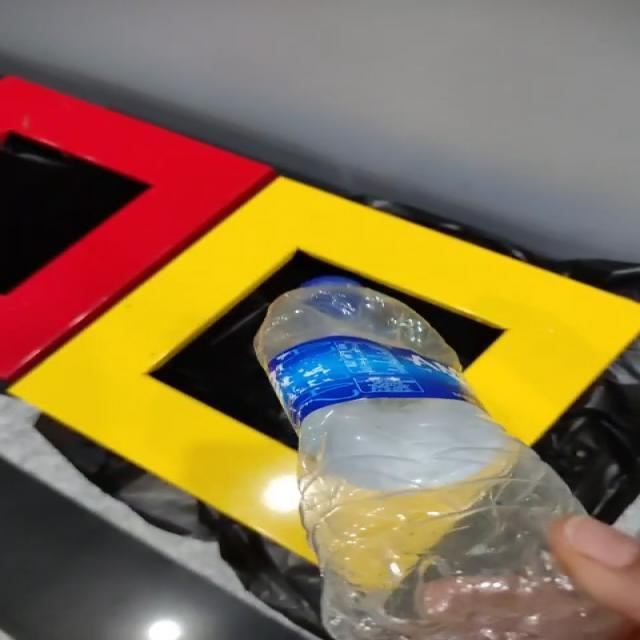Plastic: (253, 277, 619, 640)
